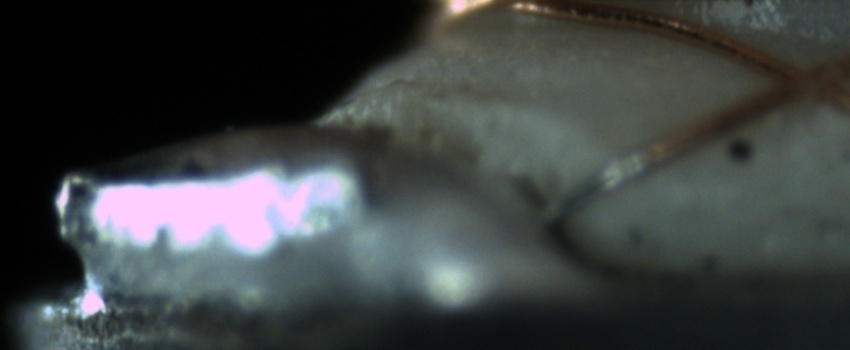CL: (755, 45, 843, 108)
TS: (554, 148, 650, 219)
